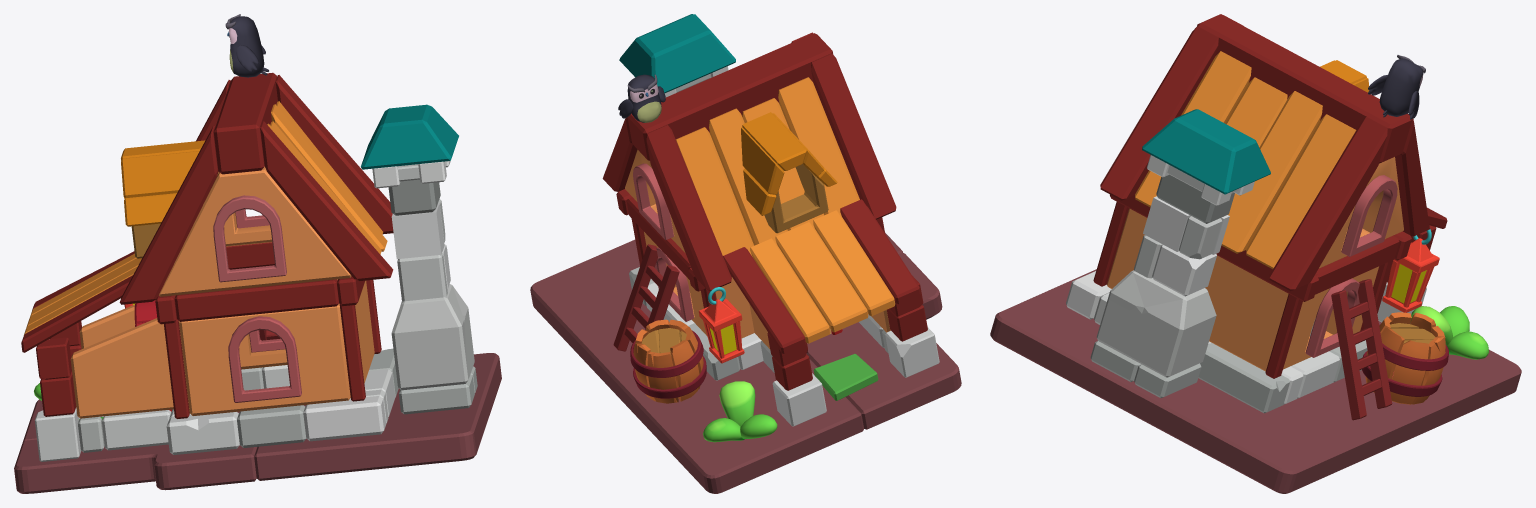
File: lvl_19.fbx
3 views of the same model, side by side, from view 1: azimuth 30°, elevation 25°; view 2: azimuth 150°, elevation 25°; view 3: azimuth 270°, elevation 25° (orthographic). The views are drawn at different scales.
Visible parts, largest first — view 1: Board_StoneHouse_8, Board_StoneHouse_13, Board_StoneHouse_60, Board_StoneHouse_40, Board_StoneHouse_17, Board_StoneHouse_33, Board_StoneHouse_50, Board_StoneHouse_19, Board_StoneHouse_48, Board_StoneHouse_6, Board_StoneHouse_47, Board_StoneHouse_39 (+27 smaller); view 2: Board_StoneHouse_60, Board_StoneHouse_16, Board_StoneHouse_6, Board_StoneHouse_40, Board_StoneHouse_58, Board_StoneHouse_19, Board_StoneHouse_59, Board_StoneHouse_5, Board_StoneHouse_47, Board_StoneHouse_48, Board_StoneHouse_12, Board_StoneHouse_11 (+17 smaller); view 3: Board_StoneHouse_60, Board_StoneHouse_37, Board_StoneHouse_55, Board_StoneHouse_33, Board_StoneHouse_6, Board_StoneHouse_49, Board_StoneHouse_47, Board_StoneHouse_50, Board_StoneHouse_38, Board_StoneHouse_12, Board_StoneHouse_21, Board_StoneHouse_51 (+16 smaller).
Boxes of the visible parts, x1,y1,x2,y2 form: Board_StoneHouse_8: [179, 303, 350, 415]; Board_StoneHouse_13: [159, 166, 351, 296]; Board_StoneHouse_60: [22, 353, 501, 480]; Board_StoneHouse_40: [14, 439, 257, 493]; Board_StoneHouse_17: [70, 318, 173, 418]; Board_StoneHouse_33: [391, 284, 474, 390]; Board_StoneHouse_50: [260, 121, 393, 280]; Board_StoneHouse_19: [121, 140, 205, 258]; Board_StoneHouse_48: [119, 126, 218, 304]; Board_StoneHouse_6: [213, 72, 277, 174]; Board_StoneHouse_47: [361, 104, 458, 169]; Board_StoneHouse_39: [175, 279, 338, 321]; Board_StoneHouse_60: [530, 232, 902, 493]; Board_StoneHouse_16: [750, 210, 895, 343]; Board_StoneHouse_6: [627, 33, 832, 160]; Board_StoneHouse_40: [806, 252, 961, 429]; Board_StoneHouse_58: [675, 108, 787, 256]; Board_StoneHouse_19: [741, 112, 837, 233]; Board_StoneHouse_59: [742, 77, 859, 230]; Board_StoneHouse_5: [646, 124, 731, 291]; Board_StoneHouse_47: [619, 14, 735, 93]; Board_StoneHouse_48: [811, 53, 896, 219]; Board_StoneHouse_12: [630, 319, 706, 403]; Board_StoneHouse_11: [723, 247, 805, 354]; Board_StoneHouse_60: [990, 269, 1521, 493]; Board_StoneHouse_37: [1221, 91, 1356, 269]; Board_StoneHouse_55: [1093, 202, 1302, 378]; Board_StoneHouse_33: [1096, 270, 1216, 377]; Board_StoneHouse_6: [1197, 14, 1412, 163]; Board_StoneHouse_49: [1269, 117, 1387, 290]; Board_StoneHouse_47: [1142, 109, 1270, 194]; Board_StoneHouse_50: [1100, 26, 1218, 200]; Board_StoneHouse_38: [1135, 51, 1287, 207]; Board_StoneHouse_12: [1362, 312, 1448, 404]; Board_StoneHouse_21: [1331, 279, 1392, 420]; Board_StoneHouse_51: [1319, 157, 1403, 268].
Bounding box in the file's own units: 17.2 × 13.94 × 16.94.
